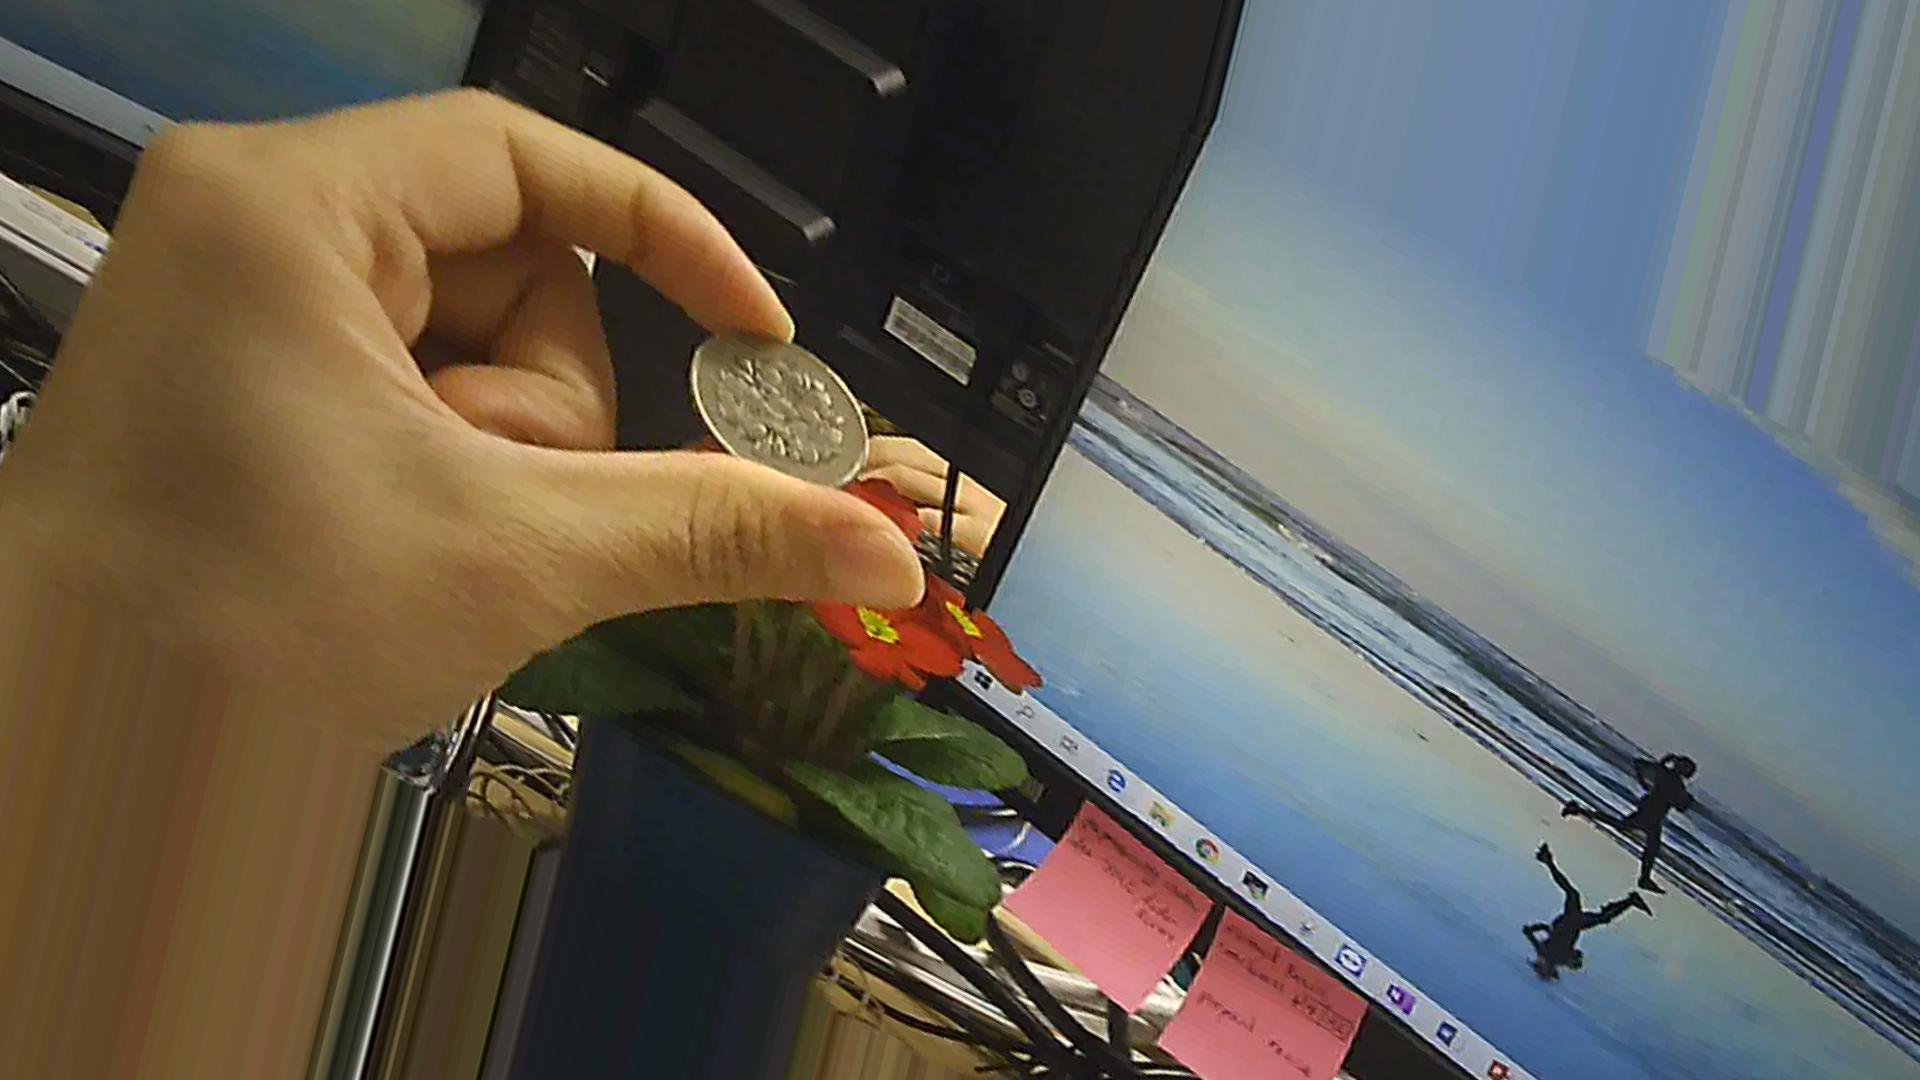100 Yen: (682, 311, 874, 493)
